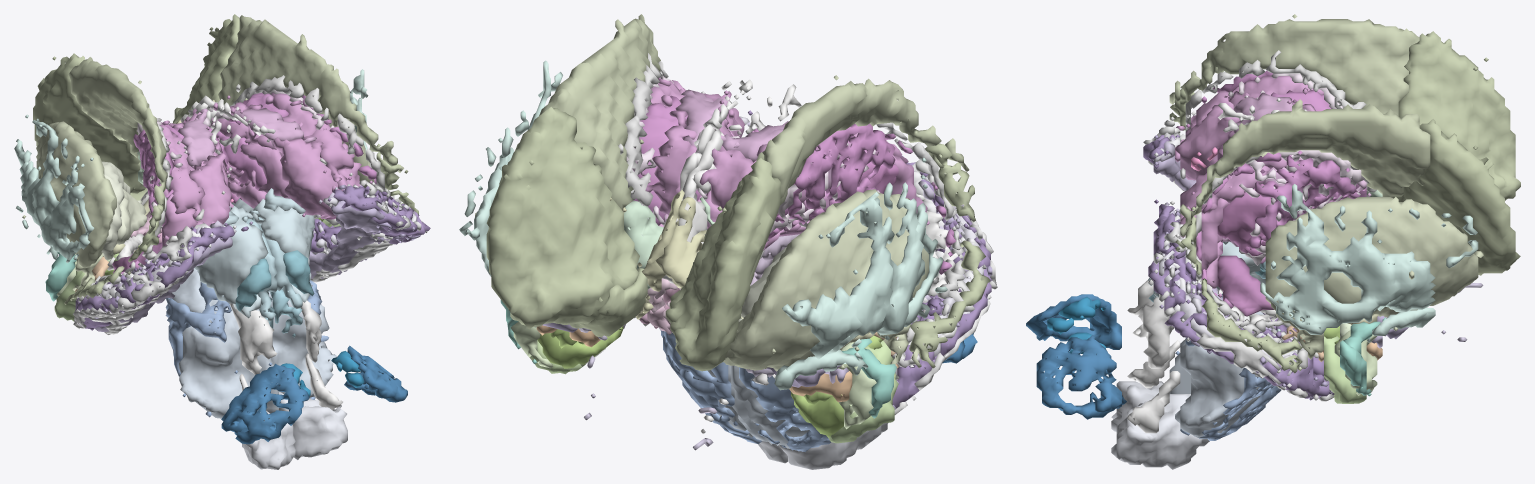
The model's file is nextbrain.glb.
The picture shows the model from 3 angles, left to right: view 1: azimuth 30°, elevation 25°; view 2: azimuth 150°, elevation 25°; view 3: azimuth 270°, elevation 25°; orthographic projection. The views are drawn at different scales.
Visible parts, largest first — view 1: nextbrain:right:10118, nextbrain:left:580, nextbrain:left:118, nextbrain:left:102, nextbrain:left:79, nextbrain:left:48, nextbrain:left:721, nextbrain:left:384, nextbrain:right:10508, nextbrain:left:354, nextbrain:right:10662, nextbrain:right:10580 (+48 smaller); view 2: nextbrain:right:10048, nextbrain:left:102, nextbrain:left:79, nextbrain:left:48, nextbrain:right:10118, nextbrain:left:118, nextbrain:left:254, nextbrain:left:393, nextbrain:right:10414, nextbrain:right:10102, nextbrain:left:414, nextbrain:right:10220 (+30 smaller); view 3: nextbrain:right:10102, nextbrain:left:118, nextbrain:right:10118, nextbrain:right:10079, nextbrain:left:48, nextbrain:right:10048, nextbrain:right:10721, nextbrain:right:10254, nextbrain:right:10580, nextbrain:right:10662, nextbrain:right:10354, nextbrain:right:10393 (+28 smaller).
Boxes of the visible parts, <box> form: nextbrain:right:10118: <box>218,15,403,172</box>; nextbrain:left:580: <box>172,268,278,418</box>; nextbrain:left:118: <box>68,57,167,234</box>; nextbrain:left:102: <box>14,114,94,263</box>; nextbrain:left:79: <box>22,121,116,268</box>; nextbrain:left:48: <box>33,53,145,193</box>; nextbrain:left:721: <box>221,363,309,444</box>; nextbrain:left:384: <box>194,206,268,318</box>; nextbrain:right:10508: <box>273,137,337,219</box>; nextbrain:left:354: <box>73,167,232,334</box>; nextbrain:right:10662: <box>279,391,347,459</box>; nextbrain:right:10580: <box>269,284,337,397</box>; nextbrain:right:10048: <box>486,107,639,329</box>; nextbrain:left:102: <box>774,157,947,390</box>; nextbrain:left:79: <box>723,189,928,371</box>; nextbrain:left:48: <box>665,152,780,371</box>; nextbrain:right:10118: <box>539,14,660,209</box>; nextbrain:left:118: <box>736,75,969,204</box>; nextbrain:left:254: <box>768,123,955,274</box>; nextbrain:left:393: <box>909,143,990,368</box>; nextbrain:right:10414: <box>659,328,761,443</box>; nextbrain:right:10102: <box>459,60,562,327</box>; nextbrain:left:414: <box>739,367,831,451</box>; nextbrain:right:10220: <box>640,95,697,215</box>; nextbrain:right:10102: <box>1260,184,1478,342</box>; nextbrain:left:118: <box>1169,14,1419,115</box>; nextbrain:right:10118: <box>1175,99,1430,248</box>; nextbrain:right:10079: <box>1265,197,1483,330</box>; nextbrain:left:48: <box>1398,31,1520,200</box>; nextbrain:right:10048: <box>1393,119,1520,275</box>; nextbrain:right:10721: <box>1036,335,1126,419</box>; nextbrain:right:10254: <box>1196,150,1366,308</box>; nextbrain:right:10580: <box>1175,311,1263,437</box>; nextbrain:right:10662: <box>1111,394,1209,469</box>; nextbrain:right:10354: <box>1148,168,1334,401</box>; nextbrain:right:10393: <box>1175,206,1302,373</box>.
Size of the model in its own units: 0.079 by 0.083 by 0.093.
